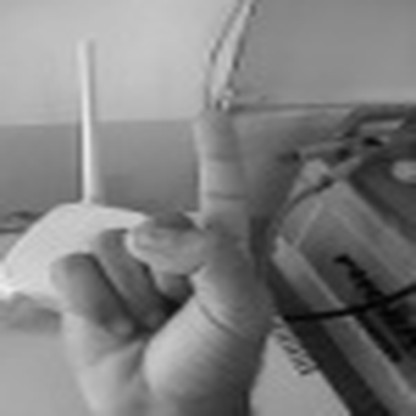d: (46, 98, 257, 413)
